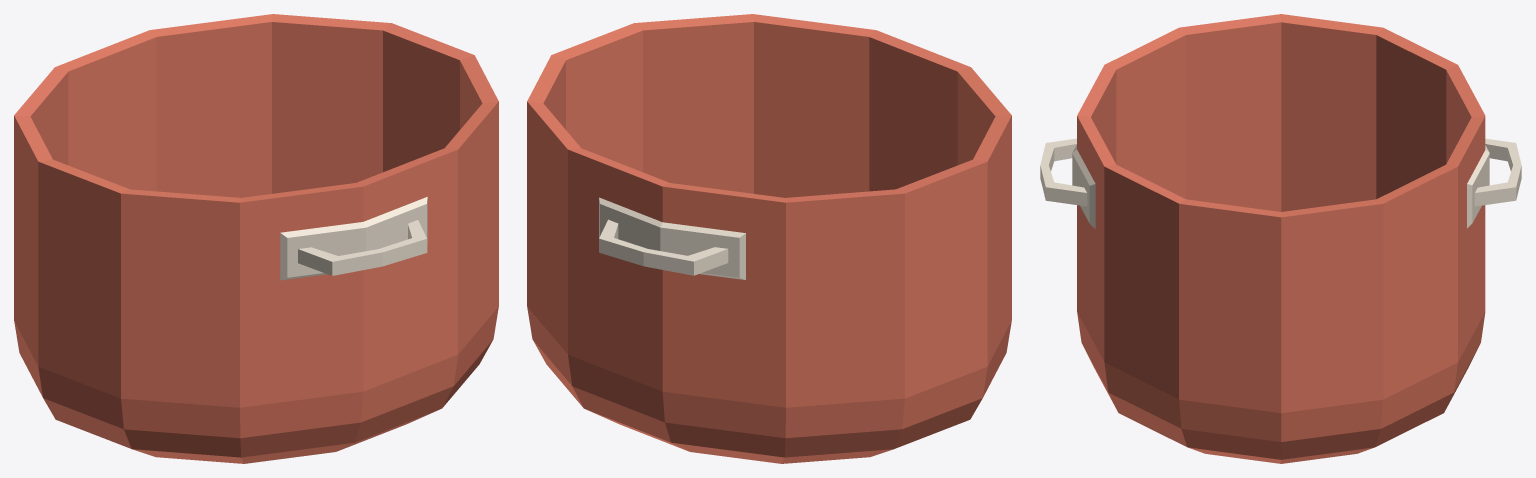
File: pot_b.glb
The picture shows the model from 3 angles, left to right: view 1: azimuth 30°, elevation 25°; view 2: azimuth 150°, elevation 25°; view 3: azimuth 270°, elevation 25°; orthographic projection. The views are drawn at different scales.
Visible parts, largest first — view 1: body; view 2: body; view 3: body.
Boxes of the visible parts, <box> form: body: <box>14,14,498,463</box>; body: <box>527,14,1011,463</box>; body: <box>1040,14,1521,463</box>.
Size of the model in its own units: 0.24 by 0.16 by 0.24.
